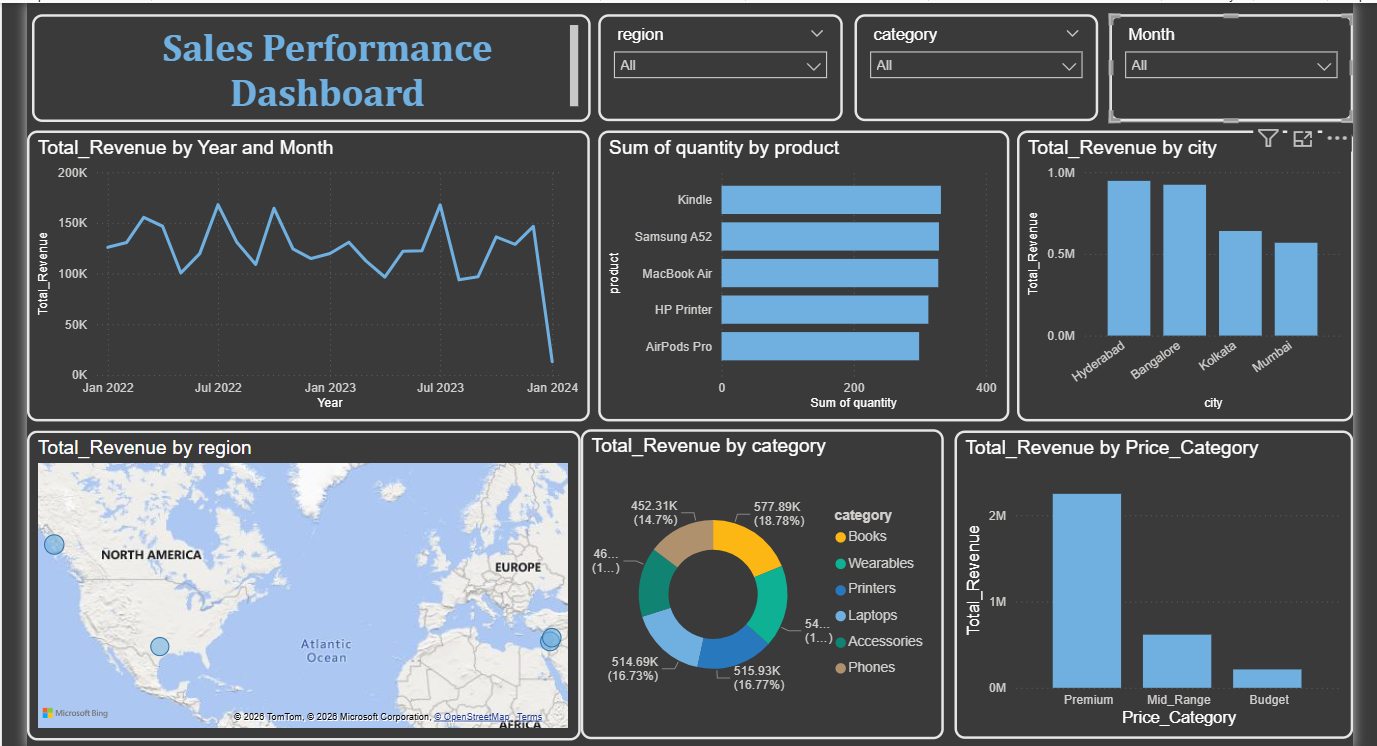

Layout of this report page (visuals, bound fields, positions):
{"tool":"powerbi","page":{"name":"Page 1","canvas":[1280,720],"ordinal":0},"visuals":[{"type":"lineChart","fields":{"Y":["public ecommerce_orders.Total_Revenue"],"Category":["public ecommerce_orders.order_date.Variation.Date Hierarchy.Year","public ecommerce_orders.order_date.Variation.Date Hierarchy.Month"]},"box":[0,122.6,543.5,281.1],"z":0},{"type":"clusteredBarChart","fields":{"Y":["Sum(public ecommerce_orders.quantity)"],"Category":["public ecommerce_orders.product"]},"box":[551.3,122.6,396.7,281.1],"z":1000},{"type":"donutChart","fields":{"Category":["public ecommerce_orders.category"],"Y":["public ecommerce_orders.Total_Revenue"]},"box":[534.1,411.5,350.6,299.1],"z":2000},{"type":"clusteredColumnChart","fields":{"Category":["public ecommerce_customers.city"],"Y":["public ecommerce_orders.Total_Revenue"]},"box":[955.1,122.6,324.9,281.1],"z":3000},{"type":"clusteredColumnChart","fields":{"Category":["public ecommerce_orders.Price_Category"],"Y":["public ecommerce_orders.Total_Revenue"]},"box":[894.9,413.1,385,297.5],"z":4000},{"type":"slicer","fields":{"Values":["public ecommerce_orders.region"]},"box":[551.3,10.9,235.8,103.1],"z":5000},{"type":"slicer","fields":{"Values":["public ecommerce_orders.category"]},"box":[798.1,10.9,235.1,103.1],"z":6000},{"type":"slicer","fields":{"Values":["public ecommerce_orders.order_date.Variation.Date Hierarchy.Month"]},"box":[1044.9,10.9,235.1,103.1],"z":7000},{"type":"textbox","box":[4.7,10.9,538.8,104],"z":8000},{"type":"map","fields":{"Size":["public ecommerce_orders.Total_Revenue"],"Category":["public ecommerce_orders.region"]},"box":[0,412,534,299],"z":9000}]}

Visuals, with their boxes in screenshot pixels (x1, y1, x2, y2):
lineChart - public ecommerce_orders.Total_Revenue x public ecommerce_orders.order_date.Variation.Date Hierarchy.Year: <region>36, 129, 591, 416</region>
clusteredBarChart - Sum(public ecommerce_orders.quantity) x public ecommerce_orders.product: <region>599, 129, 1004, 416</region>
donutChart - public ecommerce_orders.category x public ecommerce_orders.Total_Revenue: <region>582, 424, 940, 730</region>
clusteredColumnChart - public ecommerce_customers.city x public ecommerce_orders.Total_Revenue: <region>1012, 129, 1344, 416</region>
clusteredColumnChart - public ecommerce_orders.Price_Category x public ecommerce_orders.Total_Revenue: <region>950, 426, 1343, 730</region>
slicer - public ecommerce_orders.region: <region>599, 15, 840, 120</region>
slicer - public ecommerce_orders.category: <region>851, 15, 1091, 120</region>
slicer - public ecommerce_orders.order_date.Variation.Date Hierarchy.Month: <region>1103, 15, 1344, 120</region>
textbox: <region>41, 15, 591, 121</region>
map - public ecommerce_orders.Total_Revenue x public ecommerce_orders.region: <region>36, 424, 581, 730</region>
